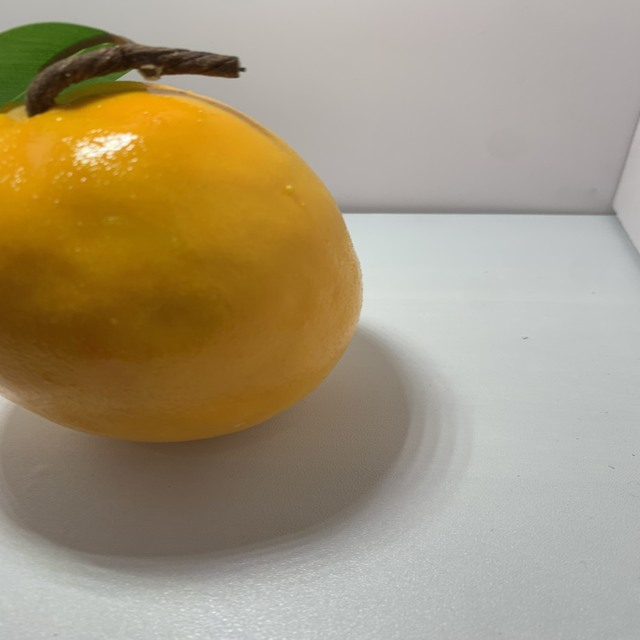Cam vang: (0, 36, 369, 448)
